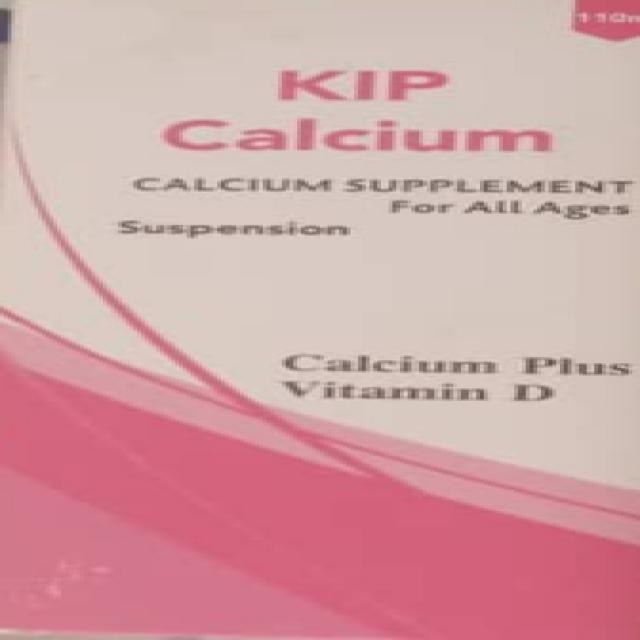drug-name: (159, 62, 553, 154)
